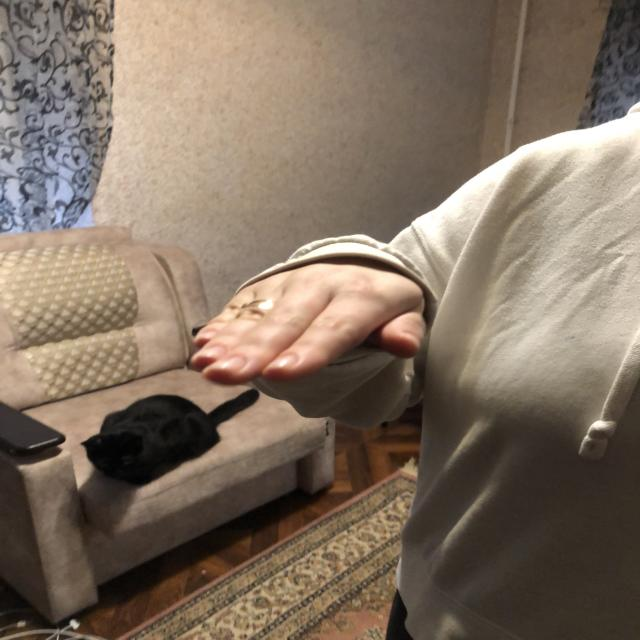paper: (190, 276, 428, 384)
